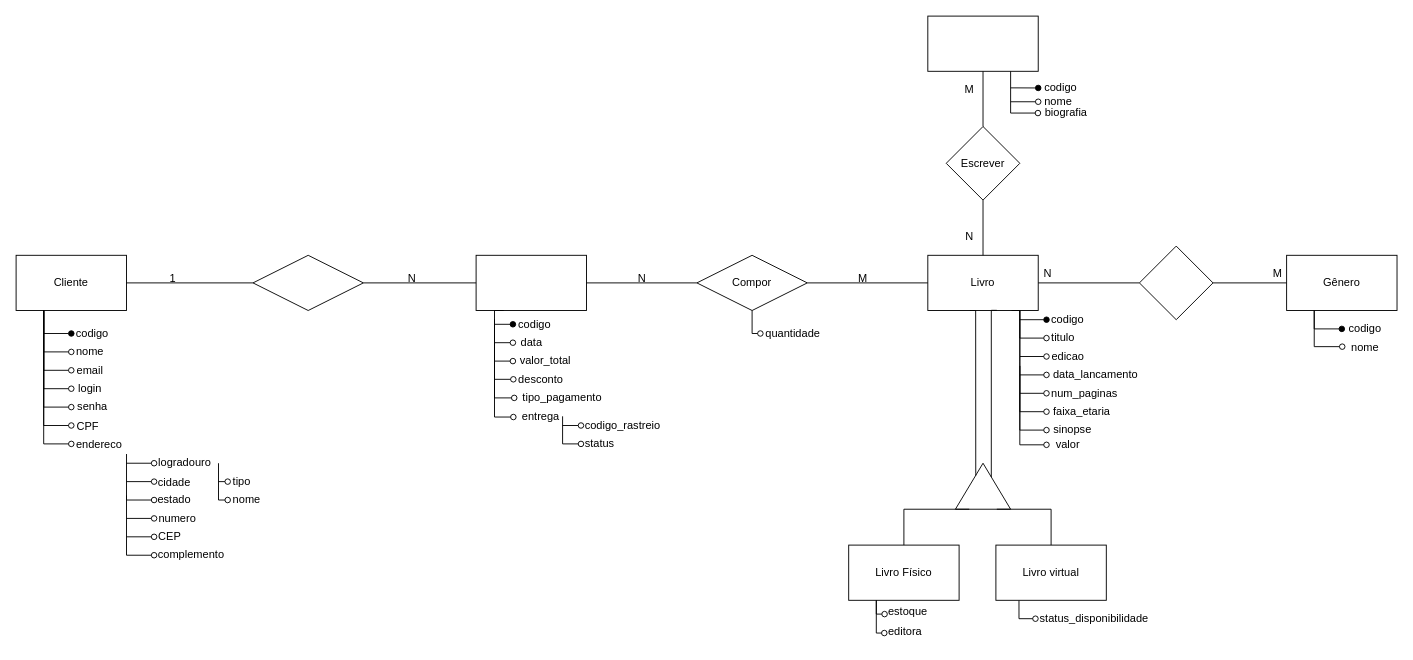
The diagram is 1413 pixels wide and 660 high, and some of its shapes have lost their labels. The shapes that lost their labels are listed below. From the top down, each one's centre as x and y in pixels, then its label:
At (x=982, y=43): "Autor".
At (x=307, y=282): "Realizar".
At (x=530, y=282): "Compra".
At (x=1175, y=282): "Possuir".
